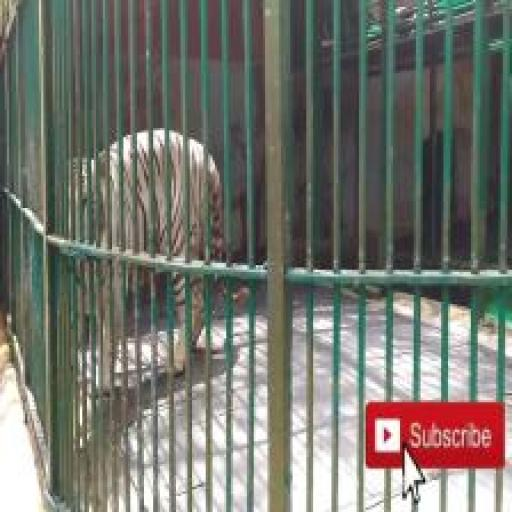Tiger: (48, 110, 265, 419)
